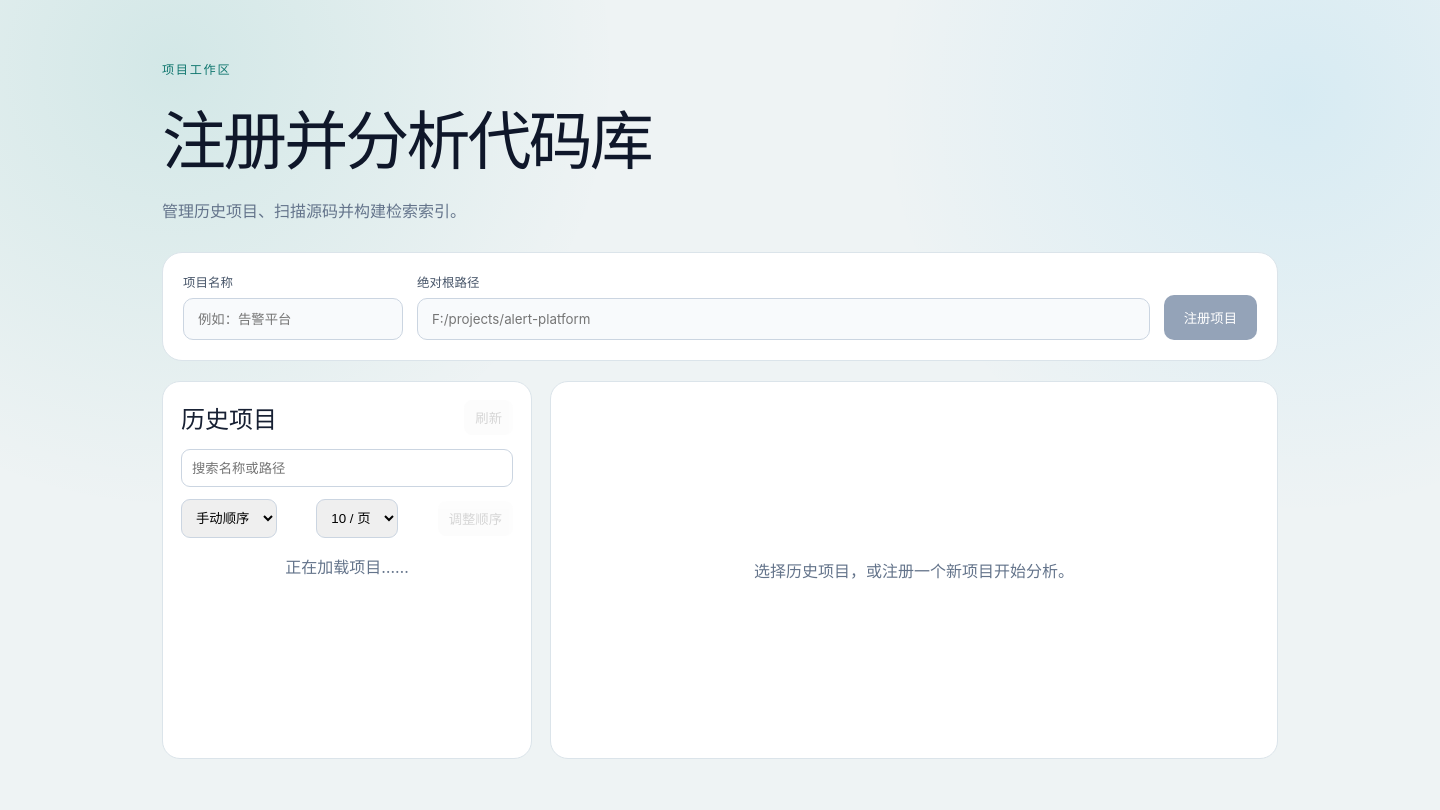
Test case: ProjectView › enables indexing after scan and displays the index summary
The image size is (1440, 810).
Type "Demo" into the field with test id "project-name" at (293, 319), box x1=183 y1=298 x2=403 y2=340
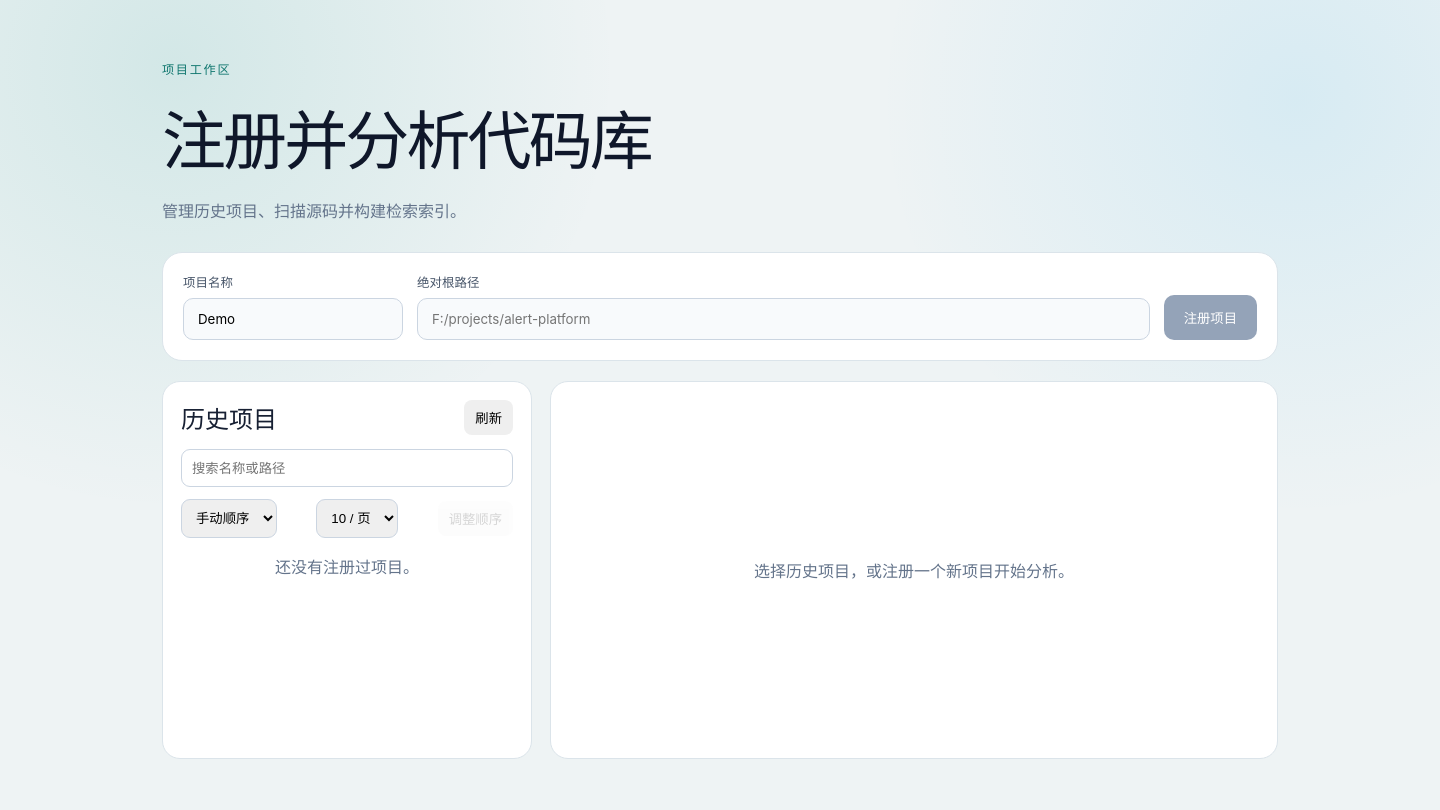
Type "F:/demo" into the field with test id "root-path" at (783, 319), box x1=417 y1=298 x2=1150 y2=340
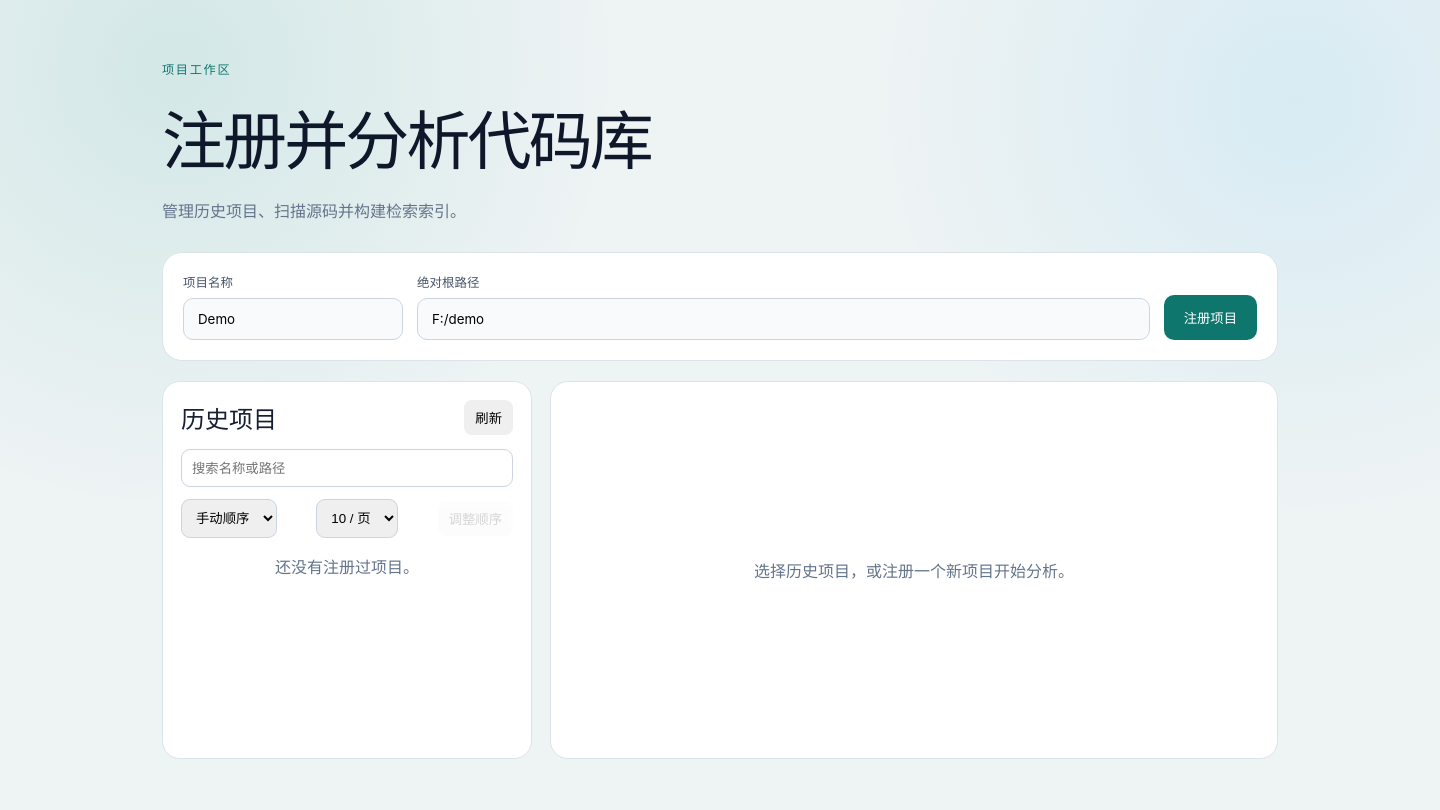
Submit the form with test id "register-form", box x1=183 y1=273 x2=1257 y2=340
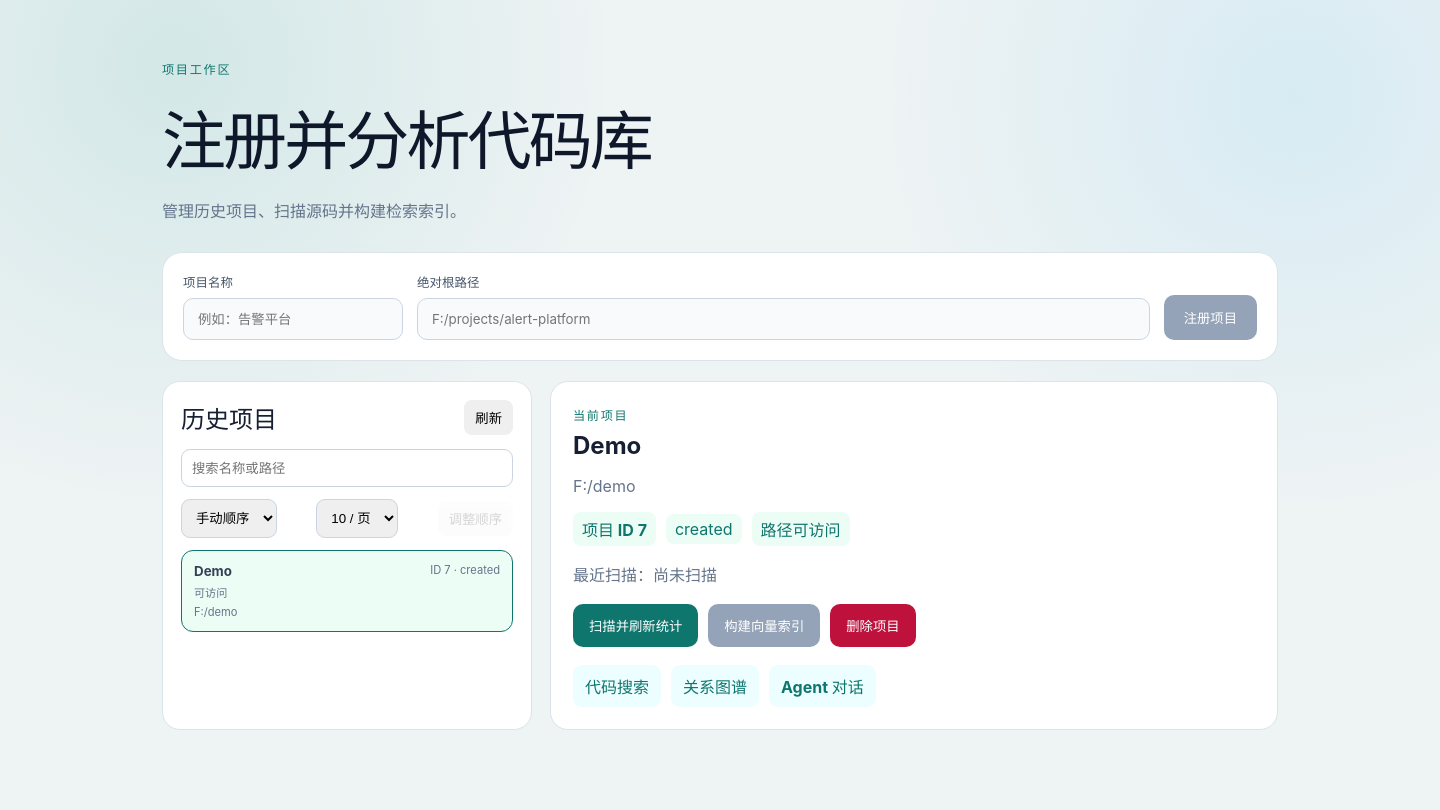
expect the button with test id "build-index" is disabled: met, box x1=708 y1=604 x2=820 y2=647
Click the button with test id "scan" at (636, 626), box x1=573 y1=604 x2=698 y2=647
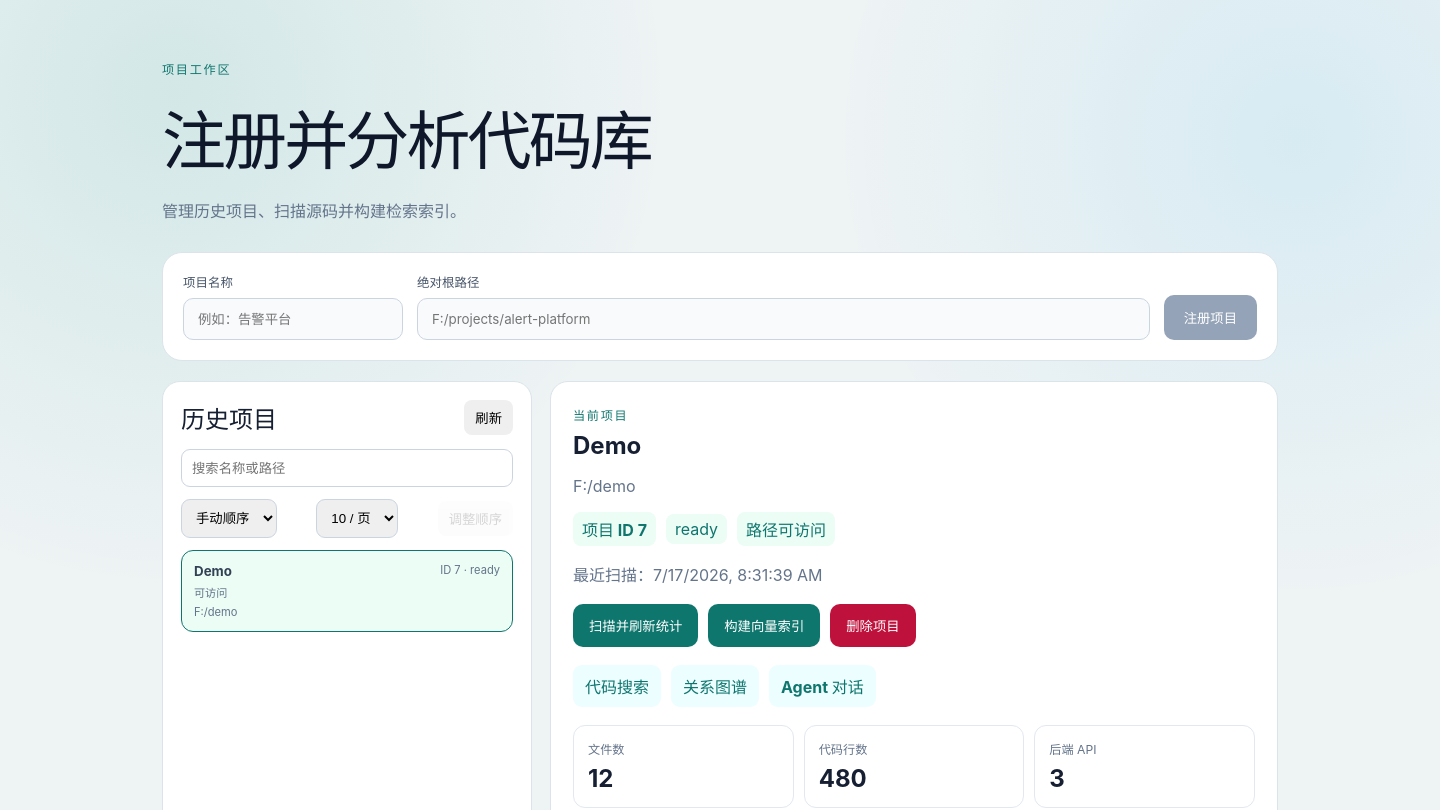
expect the button with test id "build-index" is enabled: met
Click the button with test id "build-index" at (764, 626), box x1=708 y1=604 x2=820 y2=647
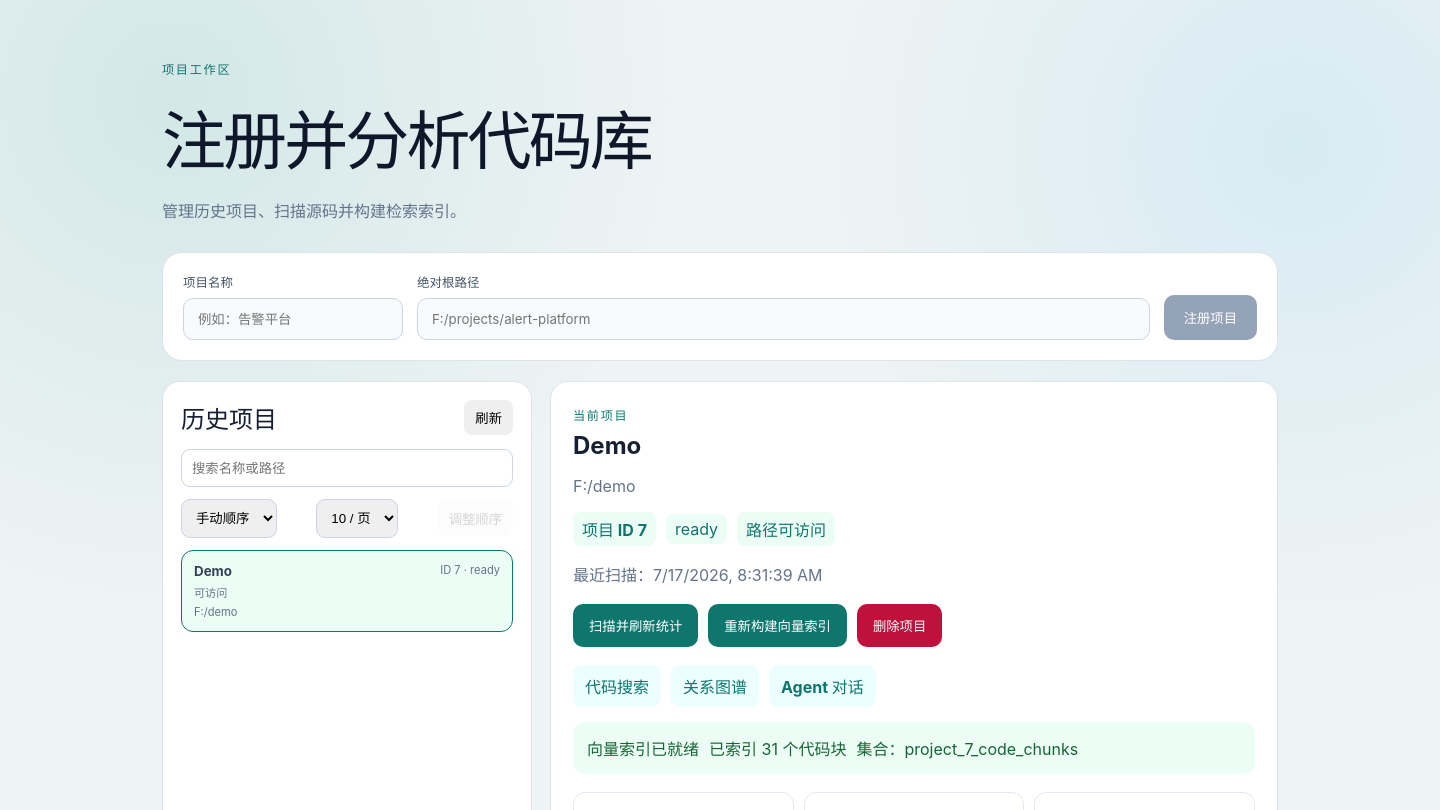
expect the element with test id "index-result" shows "31": met, box x1=709 y1=739 x2=846 y2=759
expect the element with test id "index-result" shows "project_7_code_chunks": met, box x1=856 y1=739 x2=1078 y2=759
